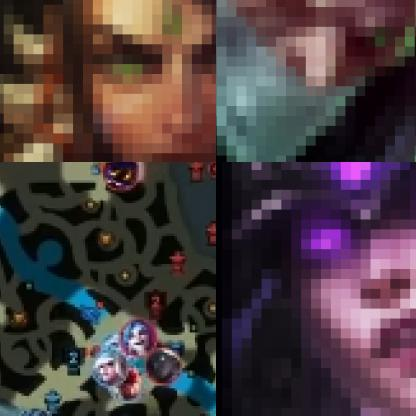Janna: (91, 351, 129, 387)
Jinx: (120, 319, 158, 358)
Karthus: (18, 406, 57, 415)
Lee Sin: (106, 366, 146, 402)
Nidalee: (0, 0, 215, 161)
Senna: (145, 346, 184, 386)
Singed: (216, 0, 415, 161)
Syndra: (216, 162, 415, 415)
Veigar: (103, 162, 143, 193)
